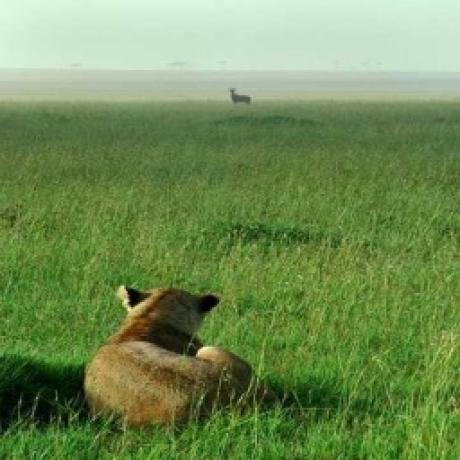Lion: (82, 277, 282, 424)
